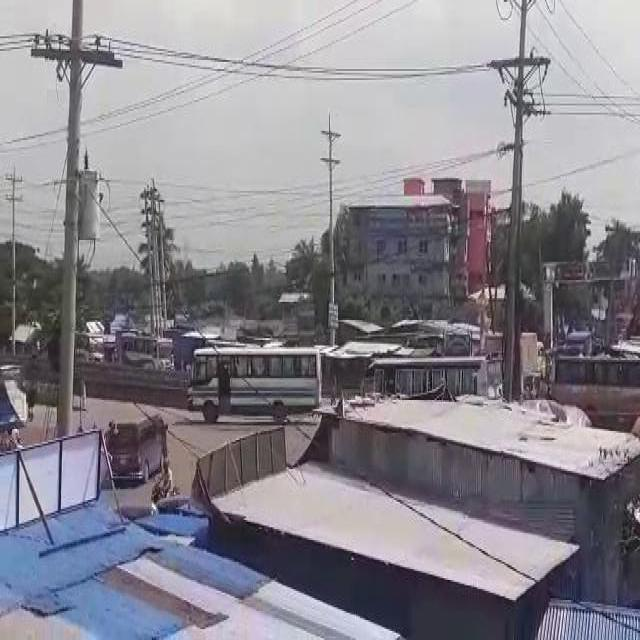bus: (186, 344, 320, 416), (548, 346, 638, 421), (372, 353, 484, 407), (116, 323, 172, 368), (1, 364, 25, 429)
motorbike: (148, 458, 178, 502)
van: (106, 404, 170, 476)
